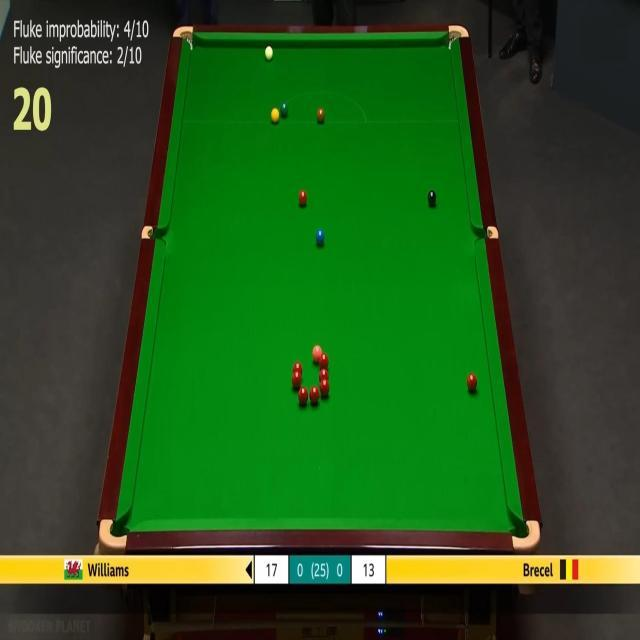Ball: (298, 190, 308, 208), (467, 374, 477, 392), (298, 388, 308, 406), (310, 386, 320, 404), (312, 345, 322, 363), (320, 380, 330, 396), (292, 372, 302, 388), (319, 368, 329, 384), (428, 190, 437, 206), (292, 362, 302, 376), (316, 229, 324, 246), (316, 109, 326, 122), (320, 353, 328, 369), (271, 107, 279, 123), (265, 46, 273, 61), (280, 103, 288, 117)
